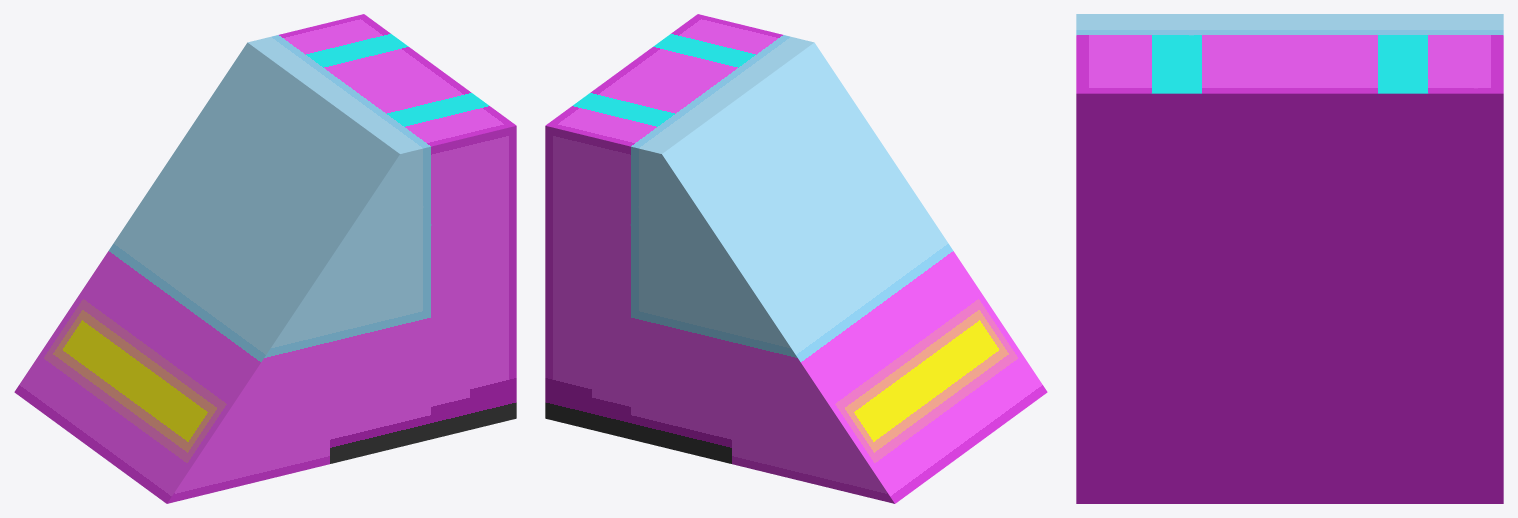
Rendered from front.gltf.
The picture shows the model from 3 angles, left to right: view 1: azimuth 30°, elevation 25°; view 2: azimuth 150°, elevation 25°; view 3: azimuth 270°, elevation 25°; orthographic projection. The views are drawn at different scales.
Parts seen in each view (by area): view 1: cube; view 2: cube; view 3: cube.
Boxes of the visible parts, x1,y1,x2,y2 form: cube: [14, 14, 516, 503]; cube: [545, 14, 1047, 503]; cube: [1076, 14, 1503, 503].
Size of the model in its own units: 2.81 by 2.25 by 2.12.
Materials: 1 (1 with a texture image).
